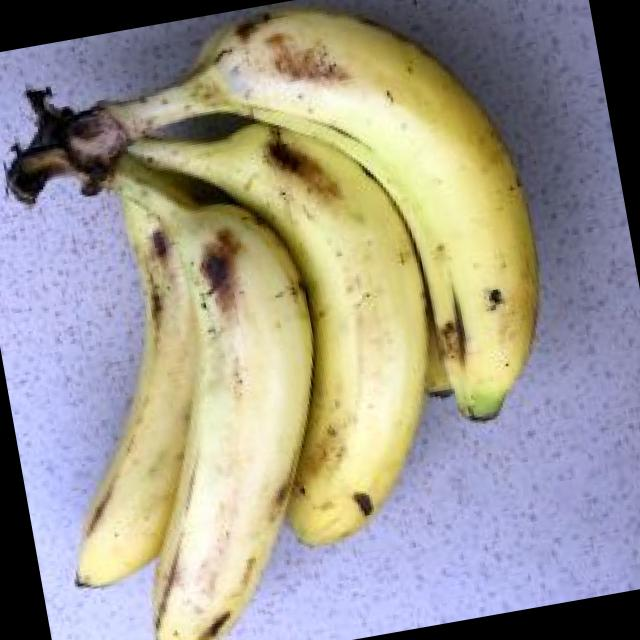banana: (82, 64, 491, 499)
